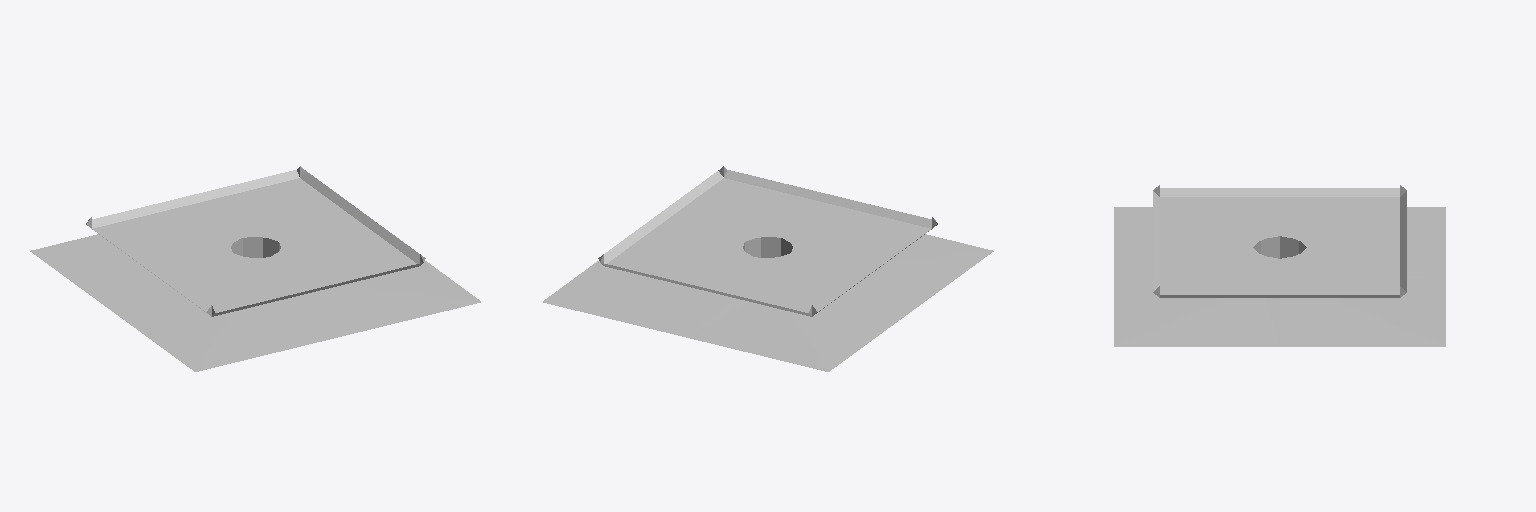
The model's file is WallZero_low.obj.
The picture shows the model from 3 angles: view 1: azimuth 30°, elevation 25°; view 2: azimuth 150°, elevation 25°; view 3: azimuth 270°, elevation 25°; orthographic projection.
Visible parts, largest first — view 1: Wall_verylow_Cube.017; view 2: Wall_verylow_Cube.017; view 3: Wall_verylow_Cube.017.
Part boxes in pixels (left/top/right/bottom): Wall_verylow_Cube.017: left=30, top=166, right=480, bottom=371; Wall_verylow_Cube.017: left=543, top=166, right=993, bottom=371; Wall_verylow_Cube.017: left=1114, top=185, right=1445, bottom=346.
Bounding box in the file's own units: 2.48 × 0.34 × 2.48.